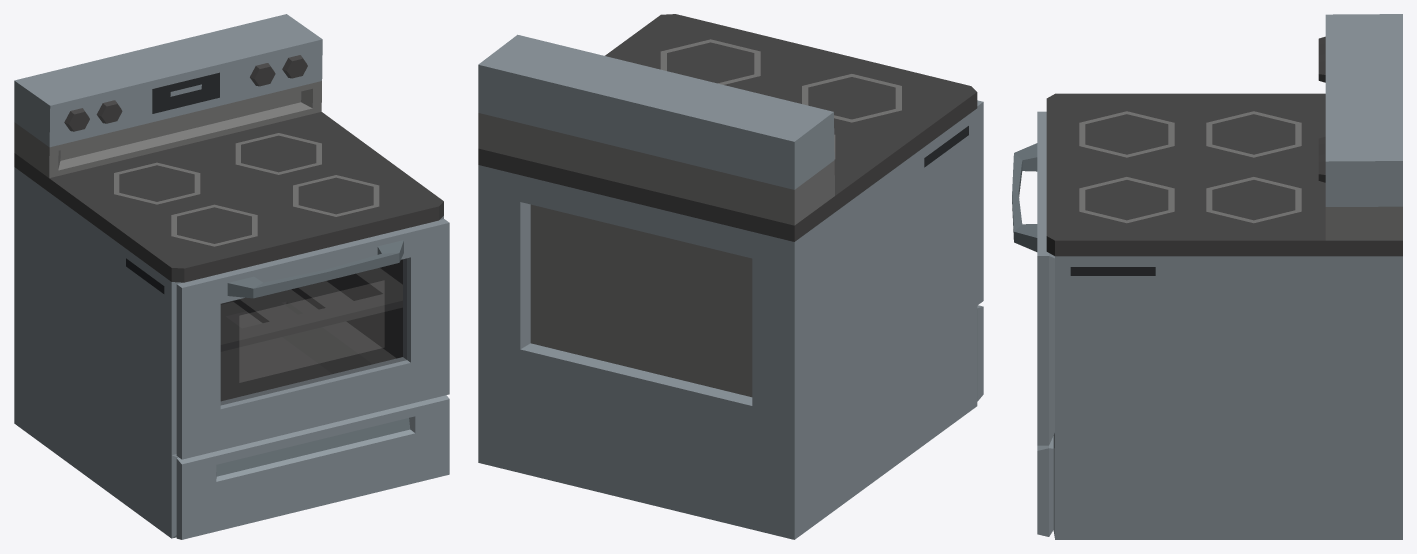
File: SM_Prop_Oven_01.fbx
The picture shows the model from 3 angles, left to right: view 1: azimuth 30°, elevation 25°; view 2: azimuth 150°, elevation 25°; view 3: azimuth 270°, elevation 25°; orthographic projection. The views are drawn at different scales.
Visible parts, largest first — view 1: SM_Prop_Oven_01, SM_Prop_Oven_Lid_01; view 2: SM_Prop_Oven_01, SM_Prop_Oven_Lid_01; view 3: SM_Prop_Oven_01, SM_Prop_Oven_Lid_01.
Part boxes in pixels (x1,y1,x2,y2): SM_Prop_Oven_01: (14, 14, 449, 539); SM_Prop_Oven_Lid_01: (176, 219, 449, 459); SM_Prop_Oven_01: (478, 14, 983, 539); SM_Prop_Oven_Lid_01: (977, 100, 983, 305); SM_Prop_Oven_01: (1037, 14, 1402, 539); SM_Prop_Oven_Lid_01: (1012, 111, 1054, 445).
Size of the model in its own units: 100 by 120 by 112.
